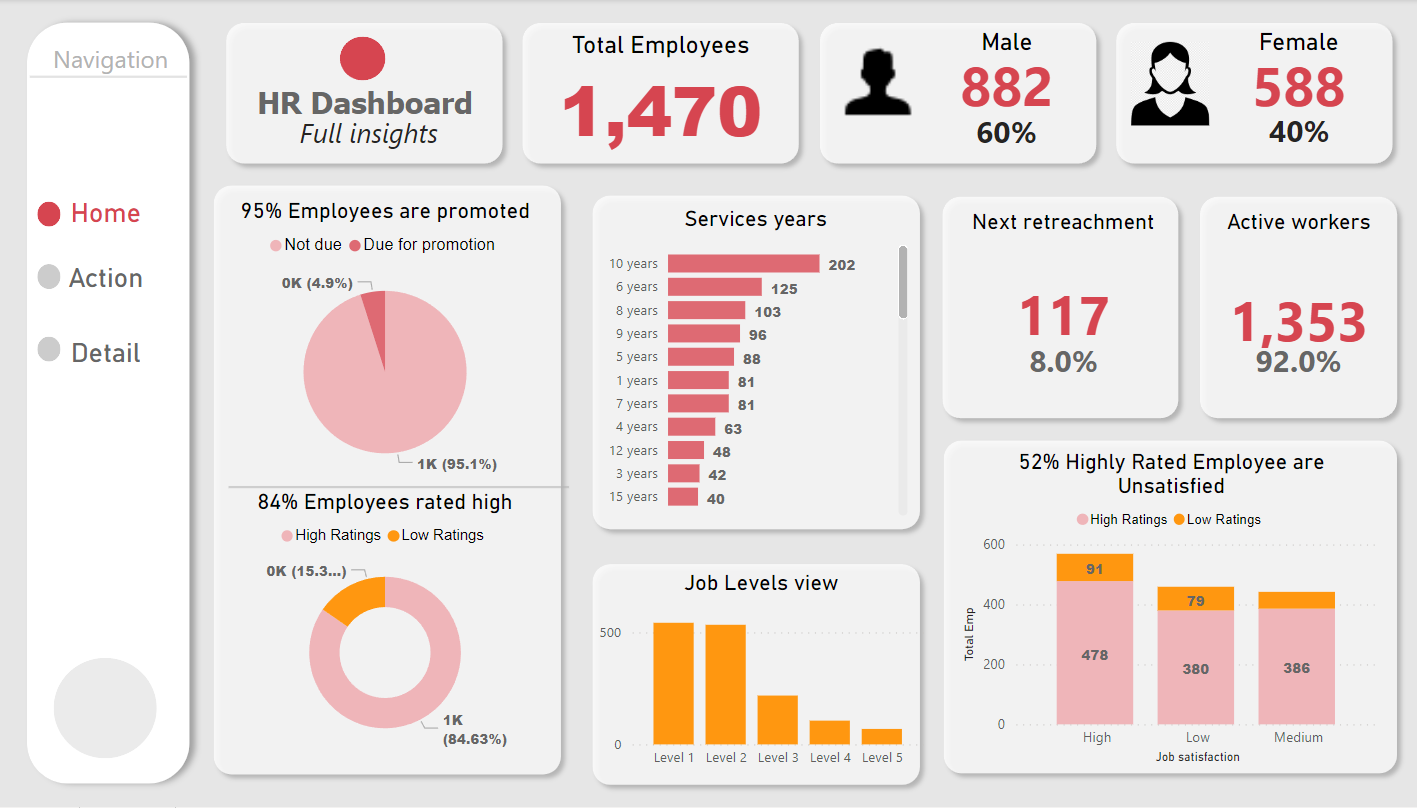

The dashboard page shown, as its layout file describes it:
{"tool":"powerbi","page":{"name":"Home","canvas":[1280,720],"ordinal":0},"visuals":[{"type":"shape","box":[16.5,9.6,166.5,699.2],"z":0},{"type":"shape","box":[195.4,12.4,264.3,143.1],"z":1000},{"type":"shape","box":[459.7,12.4,264.3,143.1],"z":2000},{"type":"shape","box":[724,12.4,264.3,143.1],"z":3000},{"type":"shape","box":[988.2,12.4,264.3,143.1],"z":4000},{"type":"shape","box":[184.5,156.8,326.8,542.7],"z":5000},{"type":"shape","box":[521.6,166.2,309.7,315.2],"z":6000},{"type":"shape","box":[521.6,494.1,309.7,214.7],"z":7000},{"type":"shape","box":[834.8,384.2,421.6,314.1],"z":8000},{"type":"shape","box":[833.6,166.7,228.3,215],"z":9000},{"type":"shape","box":[1063.1,166.7,193.3,215],"z":10000},{"type":"textbox","box":[209.7,71.2,238.7,51.4],"z":11000},{"type":"textbox","box":[36.9,33,130.5,51.4],"z":12000},{"type":"textbox","box":[209.7,97.6,251.9,55.4],"z":13000},{"type":"shape","box":[305.9,33,40.9,39.6],"z":14000},{"type":"card","title":"Total Employees","fields":{"Values":["All Measures.Total Emp"]},"box":[468,27.5,246.4,112.9],"z":15000},{"type":"card","title":"Male","fields":{"Values":["All Measures.Male"]},"box":[814.8,26.2,170.7,75.7],"z":16000},{"type":"card","fields":{"Values":["All Measures.Male %"]},"box":[834.1,90.8,132.1,55.1],"z":17000},{"type":"card","title":"Female","fields":{"Values":["All Measures.Female"]},"box":[1068.7,26.2,183.1,75.7],"z":18000},{"type":"card","fields":{"Values":["All Measures.Female %"]},"box":[1083.9,90.8,152.8,53.7],"z":19000},{"type":"image","box":[736.3,26.2,95,90.8],"z":20000},{"type":"actionButton","title":"Home","box":[27.8,176.4,140.1,30.2],"z":21000},{"type":"image","box":[1004.7,33,79.8,84],"z":22000},{"type":"actionButton","title":"Action","box":[27.7,233.4,139.8,56.7],"z":23000},{"type":"card","title":"Active workers","fields":{"Values":["All Measures.On service"]},"box":[1058,186.6,203.1,172.9],"z":24000},{"type":"actionButton","title":"Detail","box":[27.7,300.7,139.8,58],"z":25000},{"type":"card","fields":{"Values":["All Measures.% Active workers"]},"box":[1082.4,296,153.4,53.2],"z":26000},{"type":"card","title":"Next retreachment","fields":{"Values":["All Measures.Due for retirment"]},"box":[842.5,186.6,215.4,163.3],"z":27000},{"type":"card","fields":{"Values":["All Measures.%Due for retirment"]},"box":[865,296,171.5,53.2],"z":28000},{"type":"columnChart","title":"Job Levels view","fields":{"Category":["HR Analytics Data.Job Level"],"Y":["All Measures.Total Emp"]},"box":[532.4,509.1,299.1,185.2],"z":29000},{"type":"barChart","title":"Services years","fields":{"Category":["HR Analytics Data.Total working Years"],"Y":["All Measures.Total Emp"]},"box":[536.5,185.2,279.9,279.9],"z":30000},{"type":"columnChart","title":"52% Highly Rated Employee are Unsatisfied","fields":{"Category":["HR Analytics Data.Job satisfaction"],"Y":["All Measures.Total Emp"],"Series":["HR Analytics Data.Performance Rating"]},"box":[856.3,400.4,381.1,284.6],"z":31000},{"type":"shape","box":[206.6,427.7,303.2,14.5],"z":32000},{"type":"shape","box":[36.9,180.7,21.1,22.4],"z":33000},{"type":"shape","box":[36.9,236,21.1,22.4],"z":34000},{"type":"shape","box":[36.9,300.7,21.1,22.4],"z":35000},{"type":"shape","box":[51.4,586.8,92.3,89.7],"z":36000},{"type":"shape","box":[30.2,61.6,140.1,15.7],"z":37000},{"type":"pieChart","title":"95% Employees are promoted","fields":{"Category":["HR Analytics Data.Promotion status"],"Y":["All Measures.Total Emp"]},"box":[194.9,177,303.3,258],"z":38000},{"type":"donutChart","title":"84% Employees rated high","fields":{"Category":["HR Analytics Data.Performance Rating"],"Y":["All Measures.Total Emp"]},"box":[194.9,436.4,303.3,240.1],"z":39000}]}

Visuals, with their boxes in screenshot pixels (x1, y1, x2, y2), scaled from the page's 1280x720 canvas onto the 1417x808 screenshot:
shape: bbox=(18, 11, 203, 795)
shape: bbox=(216, 14, 509, 175)
shape: bbox=(509, 14, 801, 175)
shape: bbox=(801, 14, 1094, 175)
shape: bbox=(1094, 14, 1387, 175)
shape: bbox=(204, 176, 566, 785)
shape: bbox=(577, 187, 920, 540)
shape: bbox=(577, 554, 920, 795)
shape: bbox=(924, 431, 1391, 784)
shape: bbox=(923, 187, 1176, 428)
shape: bbox=(1177, 187, 1391, 428)
textbox: bbox=(232, 80, 496, 138)
textbox: bbox=(41, 37, 185, 95)
textbox: bbox=(232, 110, 511, 172)
shape: bbox=(339, 37, 384, 81)
"Total Employees" card: bbox=(518, 31, 791, 158)
"Male" card: bbox=(902, 29, 1091, 114)
card - All Measures.Male %: bbox=(923, 102, 1070, 164)
"Female" card: bbox=(1183, 29, 1386, 114)
card - All Measures.Female %: bbox=(1200, 102, 1369, 162)
image: bbox=(815, 29, 920, 131)
"Home" actionButton: bbox=(31, 198, 186, 232)
image: bbox=(1112, 37, 1201, 131)
"Action" actionButton: bbox=(31, 262, 185, 326)
"Active workers" card: bbox=(1171, 209, 1396, 403)
"Detail" actionButton: bbox=(31, 337, 185, 403)
card - All Measures.% Active workers: bbox=(1198, 332, 1368, 392)
"Next retreachment" card: bbox=(933, 209, 1171, 393)
card - All Measures.%Due for retirment: bbox=(958, 332, 1147, 392)
"Job Levels view" columnChart: bbox=(589, 571, 920, 779)
"Services years" barChart: bbox=(594, 208, 904, 522)
"52% Highly Rated Employee are Unsatisfied" columnChart: bbox=(948, 449, 1370, 769)
shape: bbox=(229, 480, 564, 496)
shape: bbox=(41, 203, 64, 228)
shape: bbox=(41, 265, 64, 290)
shape: bbox=(41, 337, 64, 363)
shape: bbox=(57, 659, 159, 759)
shape: bbox=(33, 69, 189, 87)
"95% Employees are promoted" pieChart: bbox=(216, 199, 552, 488)
"84% Employees rated high" donutChart: bbox=(216, 490, 552, 759)
